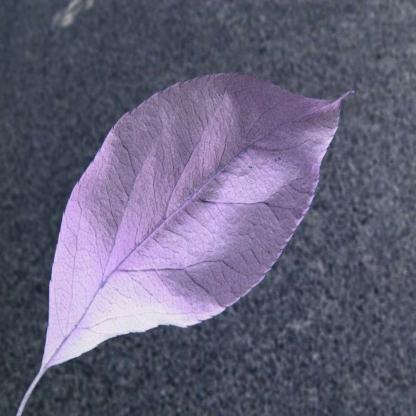apple leaf: (30, 66, 364, 371)
